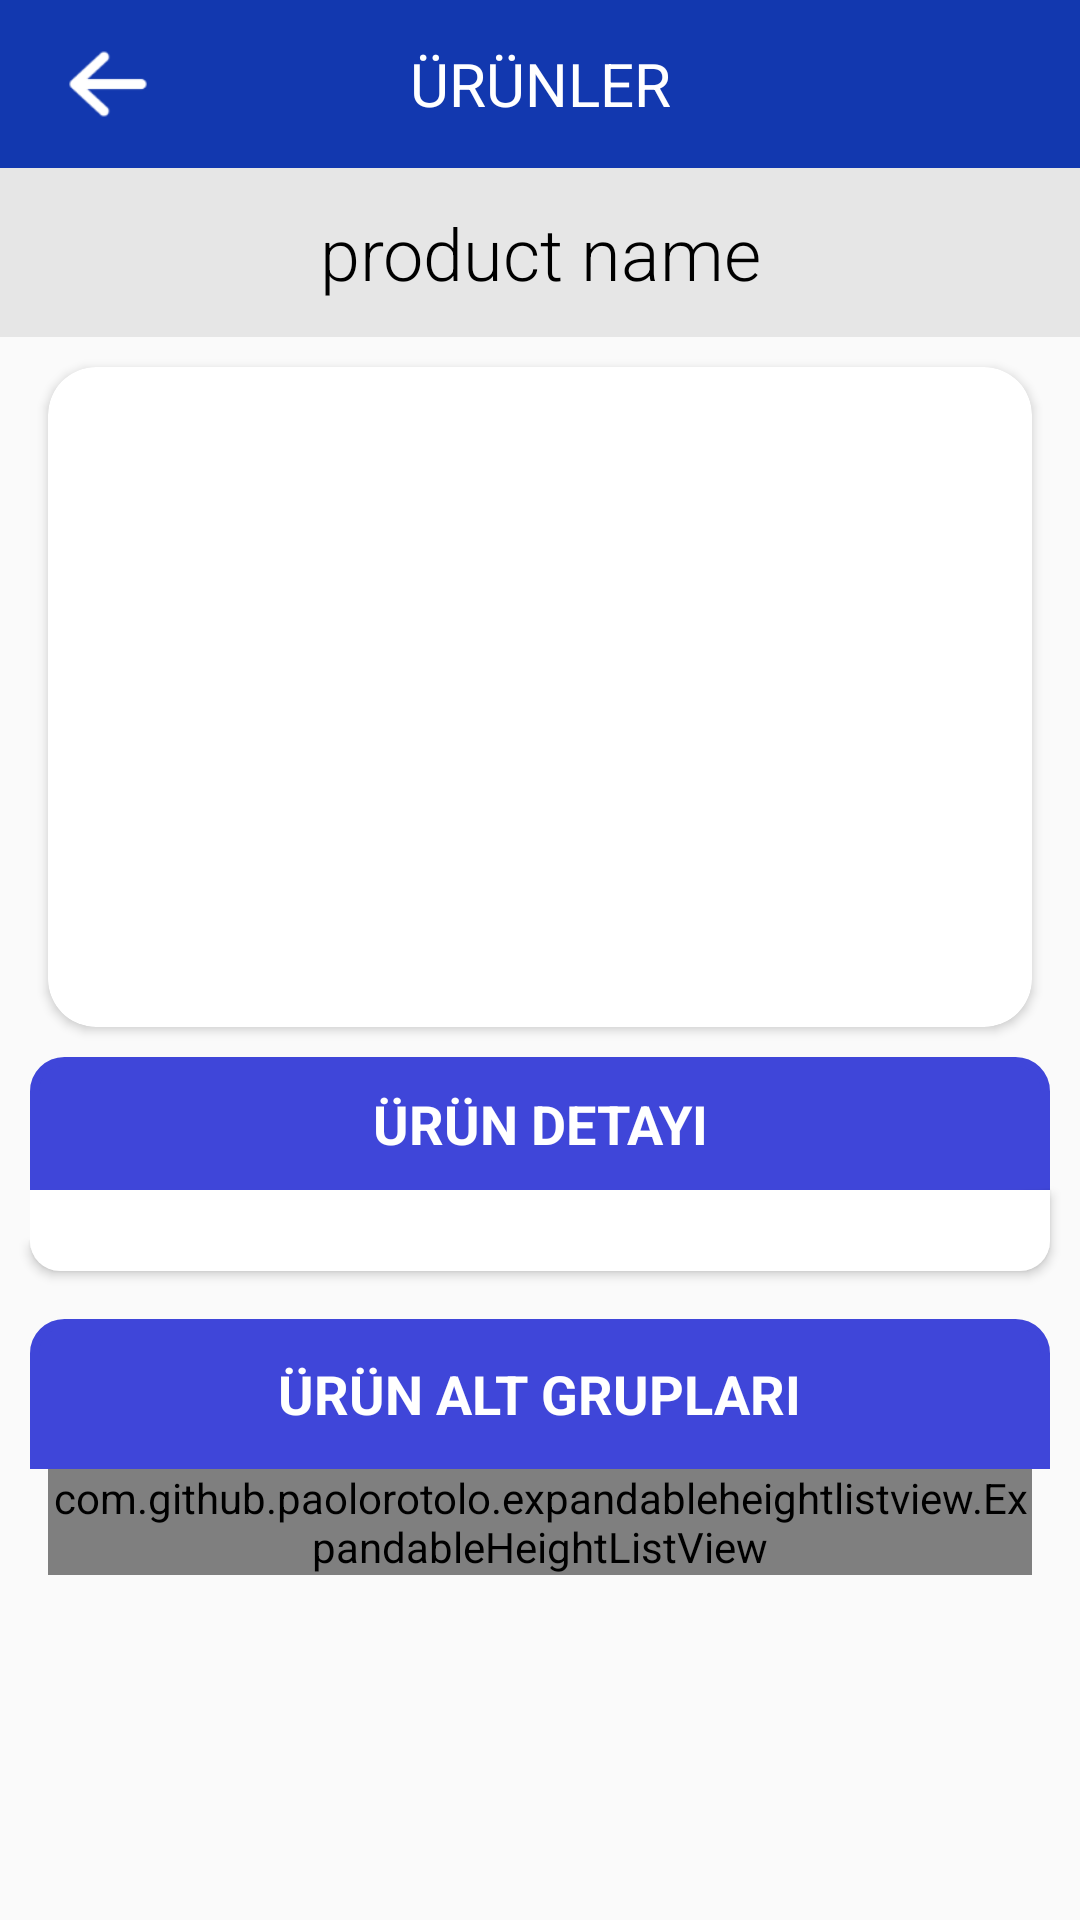

Where icons sit on this 1080*1920 app screen, as (x1, y1, x2, y2):
back: (69, 51, 147, 117)
